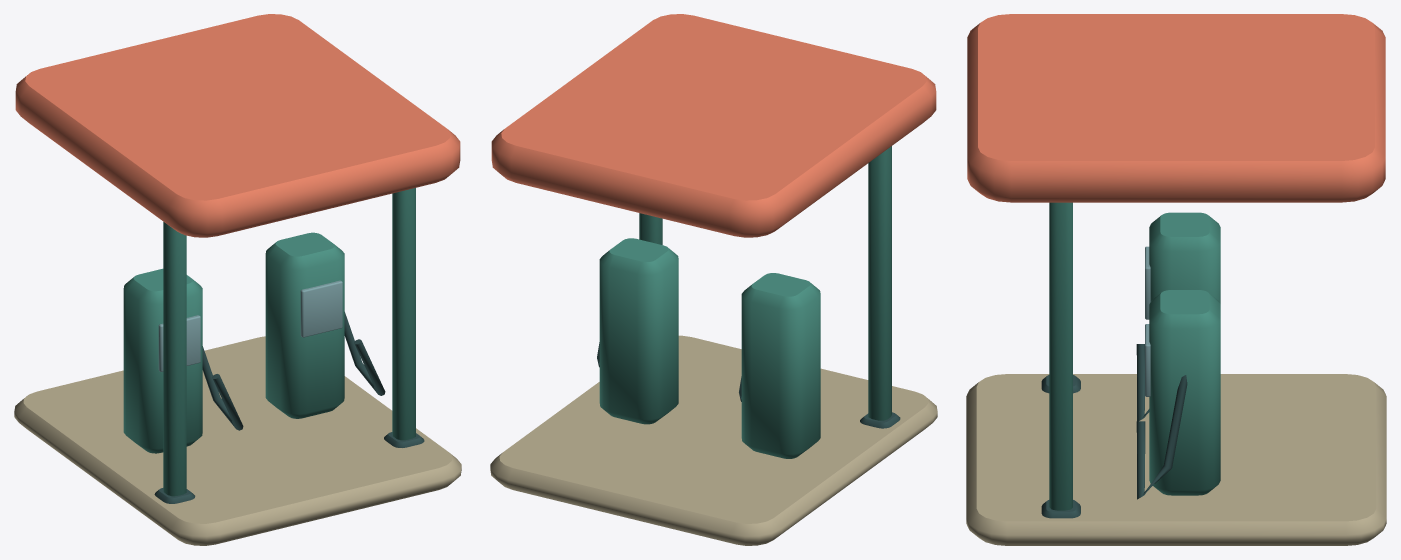
File: tropical_fuel_2.glb
3 views of the same model, side by side, from view 1: azimuth 30°, elevation 25°; view 2: azimuth 150°, elevation 25°; view 3: azimuth 270°, elevation 25° (orthographic). The views are drawn at different scales.
Parts seen in each view (by area): view 1: TropicalFuel2; view 2: TropicalFuel2; view 3: TropicalFuel2.
Part boxes in pixels (x1,y1,x2,y2): TropicalFuel2: (14, 14, 461, 545); TropicalFuel2: (490, 14, 937, 545); TropicalFuel2: (966, 14, 1386, 545).
Size of the model in its own units: 2.18 by 2.51 by 2.48.
